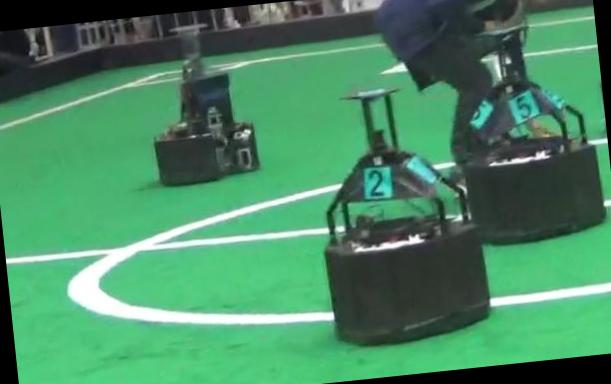robot: (324, 90, 490, 344), (463, 24, 606, 244), (154, 25, 259, 185)
